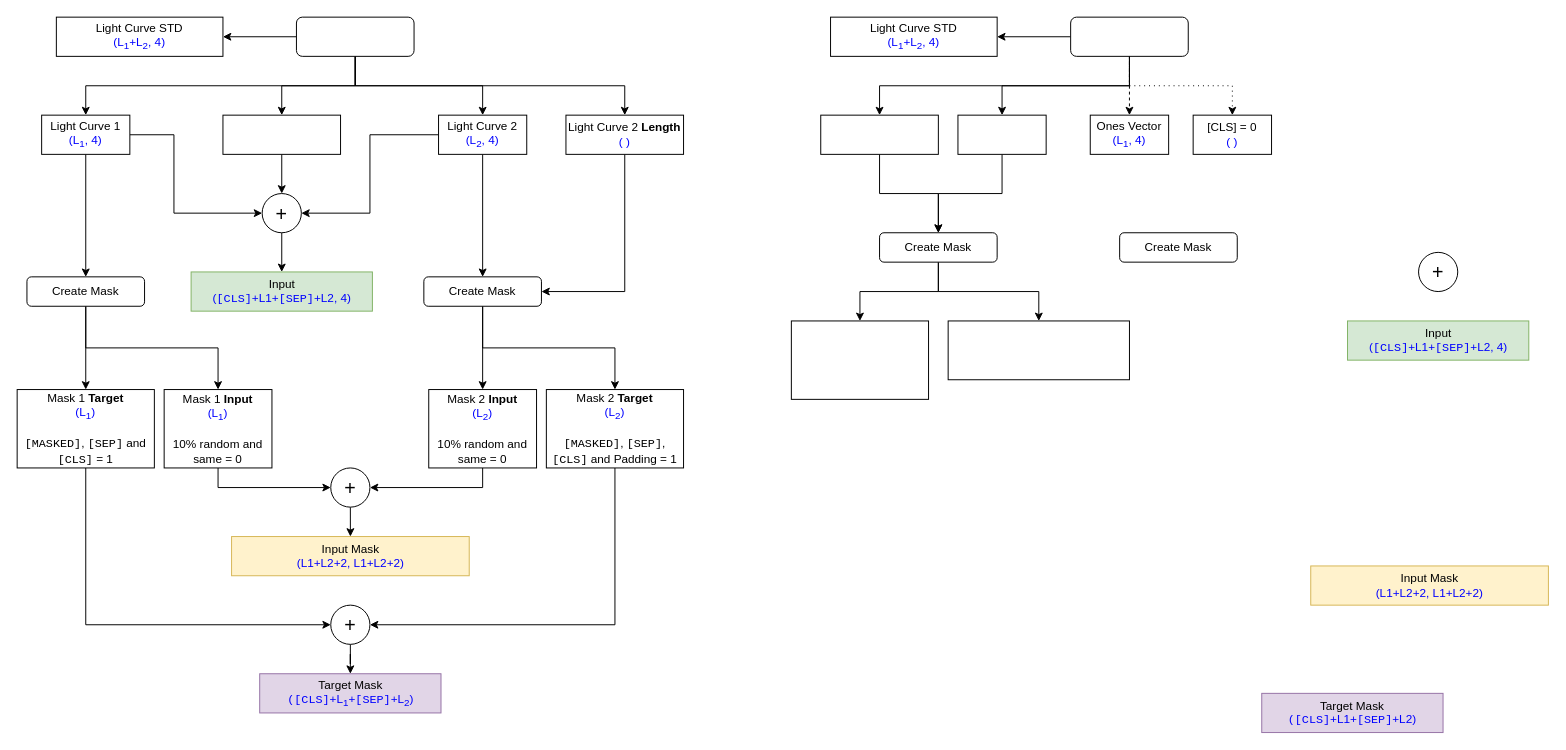
This 1566x750 diagram has some shape labels left out. The shapes that lost their labels are listed below. From the top down, each one's centre as x and y in pixels, then its label:
point (354, 36): Data Loader
point (1129, 36): Data Loader Prediction
point (281, 134): Random Class [CLS] ( )
point (879, 134): Light Curve Length ( )
point (1001, 134): Light Curve ( L 1 , 4)
point (859, 359): Mask Target ( L 1 ) [MASKED] , [SEP] , [CLS] and Padding = 1
point (1038, 350): Mask Input (L 1 ) [SEP], [CLS] and Padding = 1
